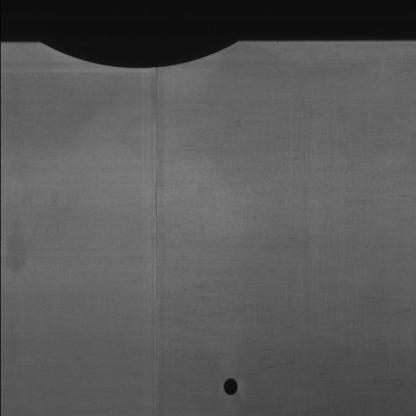crescent_gap: (33, 34, 245, 71)
punching_hole: (220, 375, 242, 399)
welding_line: (143, 69, 168, 414)
